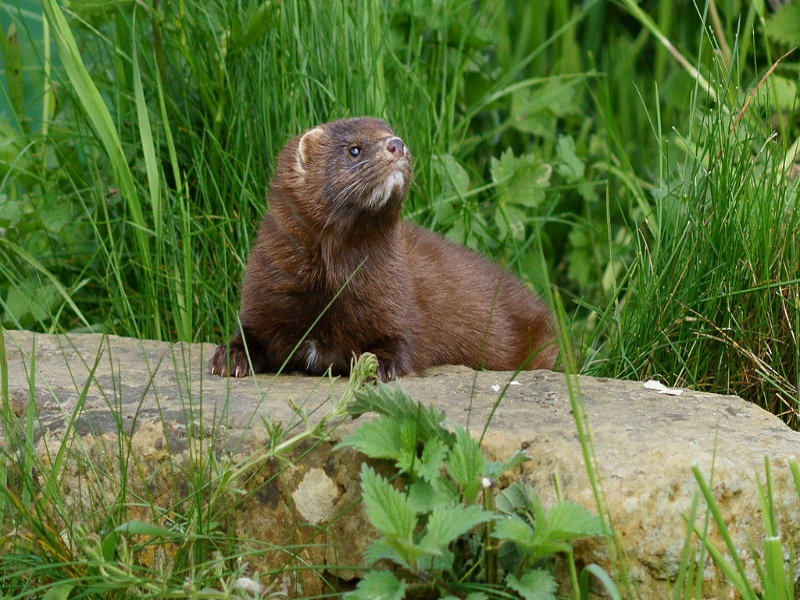minkish: (215, 120, 587, 403)
